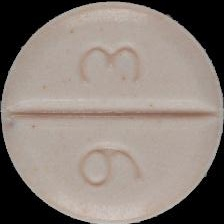0093-7380: (0, 0, 224, 224)
